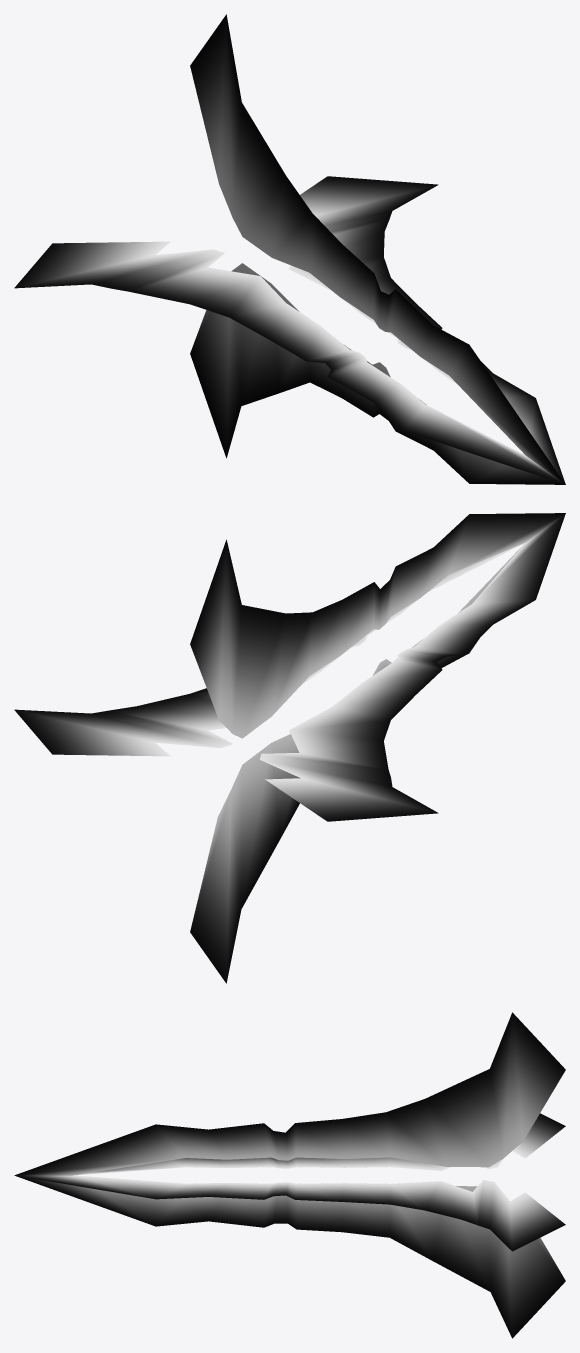
Rendered from langyachangmao006.fbx.
3 views of the same model, one above another, from view 1: azimuth 30°, elevation 25°; view 2: azimuth 150°, elevation 25°; view 3: azimuth 270°, elevation 25° (orthographic). The views are drawn at different scales.
Parts seen in each view (by area): view 1: langyachangmao006; view 2: langyachangmao006; view 3: langyachangmao006.
Part boxes in pixels (x1,y1,x2,y2): langyachangmao006: (14,14,565,484); langyachangmao006: (14,513,565,983); langyachangmao006: (14,1012,565,1338).
Size of the model in its own units: 352 by 352 by 540.
